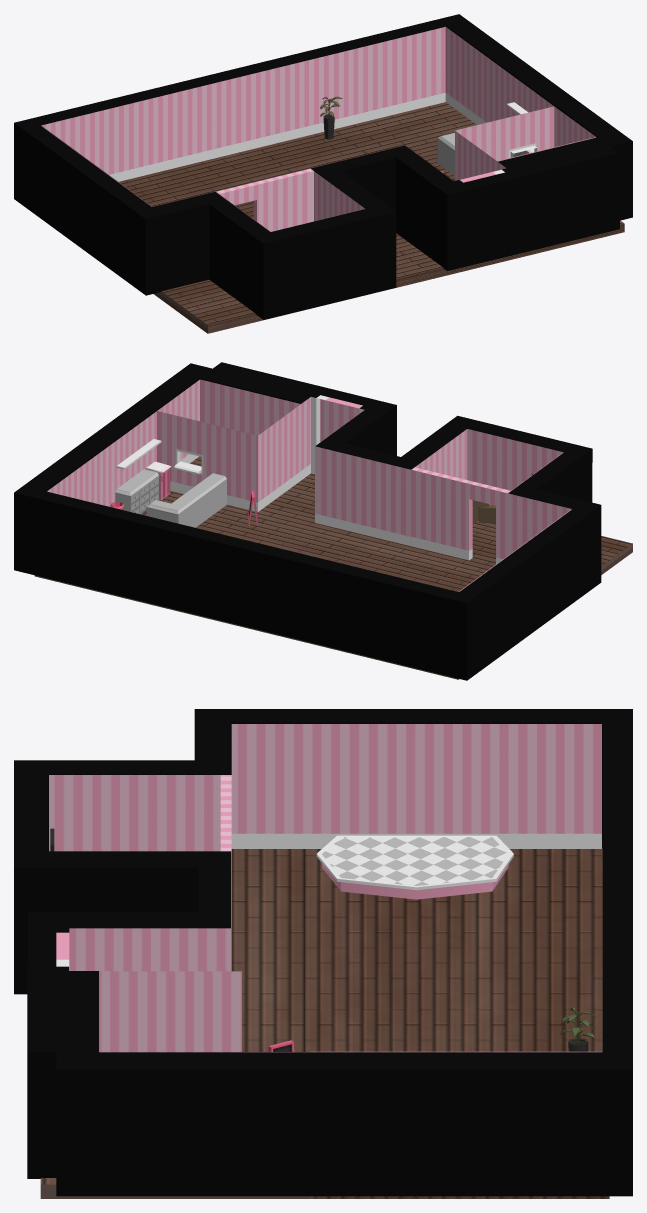
The model's file is Entorno_Cafeteria.fbx.
The picture shows the model from 3 angles, top to bottom: view 1: azimuth 30°, elevation 25°; view 2: azimuth 150°, elevation 25°; view 3: azimuth 270°, elevation 25°; orthographic projection. The views are drawn at different scales.
Parts seen in each view (by area): view 1: EXTERIOR, PAREDES, SUELO, MUEBLES, PLANTA; view 2: EXTERIOR, PAREDES, SUELO, MUEBLES, NEVERA; view 3: EXTERIOR, PAREDES, SUELO, ESCENARIO, PLANTA.
Boxes of the visible parts, x1,y1,x2,y2 form: EXTERIOR: [14, 14, 632, 319]; PAREDES: [41, 26, 596, 231]; SUELO: [119, 102, 624, 333]; MUEBLES: [437, 132, 526, 175]; PLANTA: [320, 96, 342, 139]; EXTERIOR: [14, 362, 601, 680]; PAREDES: [47, 379, 571, 591]; SUELO: [34, 456, 632, 679]; MUEBLES: [115, 469, 227, 527]; NEVERA: [146, 461, 171, 500]; EXTERIOR: [14, 709, 632, 1196]; PAREDES: [49, 724, 601, 1052]; SUELO: [40, 848, 609, 1198]; ESCENARIO: [316, 835, 513, 899]; PLANTA: [560, 1007, 595, 1051].
Bounding box in the file's own units: 1378 × 249 × 1000.
